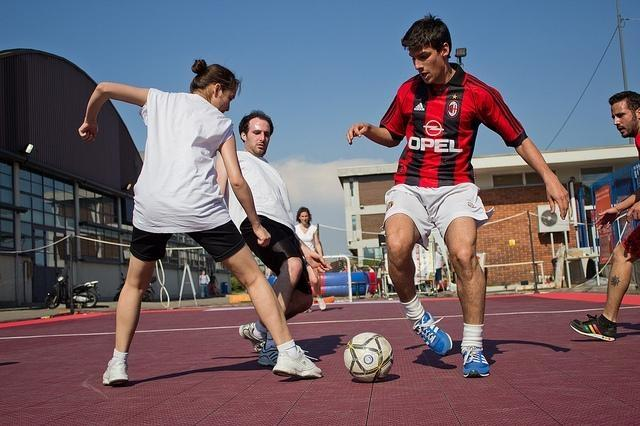motorcycle: (44, 276, 100, 309), (114, 272, 157, 302)
